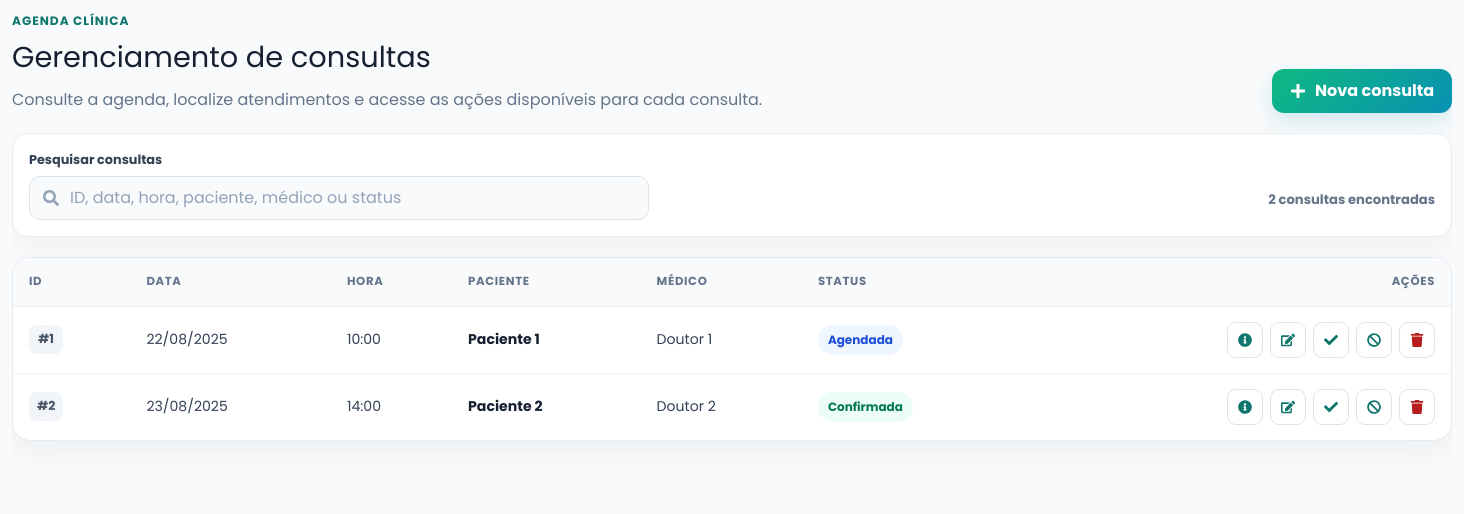
AppointmentList workspace › shows a distinct no-results state for an unmatched search
In the search field labelled "Pesquisar consultas": (339, 198) x1=29 y1=176 x2=649 y2=220, type "consulta inexistente"
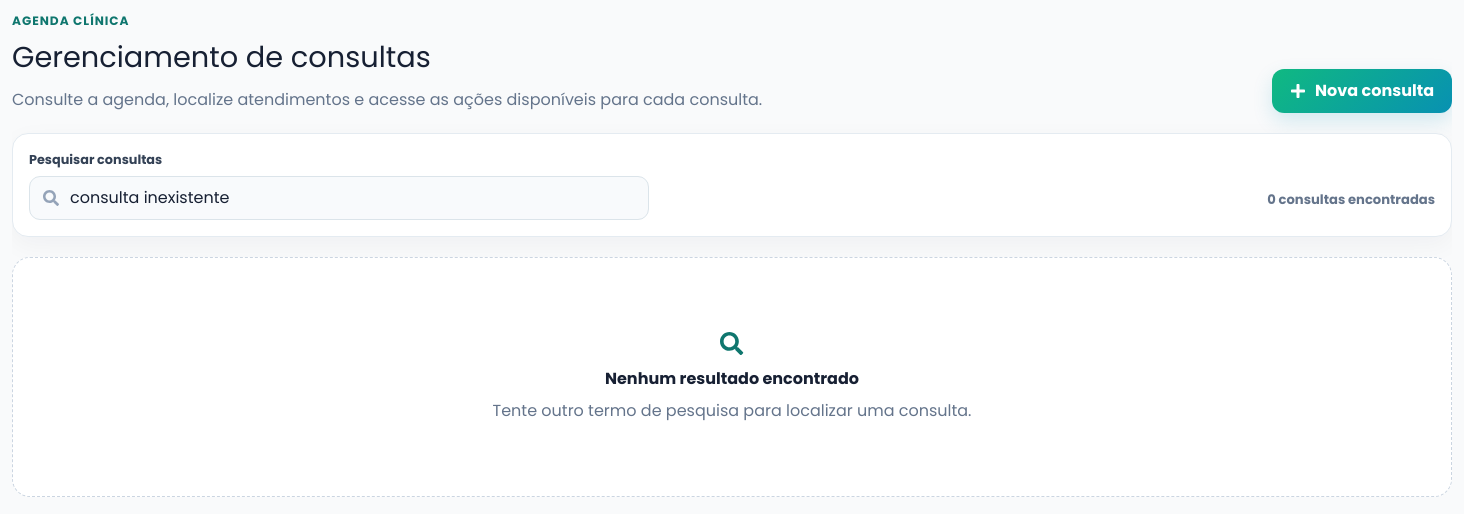
Now the text "Nenhum resultado encontrado" is shown, box x1=605 y1=367 x2=859 y2=391
Now the text "0 consultas encontradas" is shown, box x1=1267 y1=190 x2=1435 y2=220
